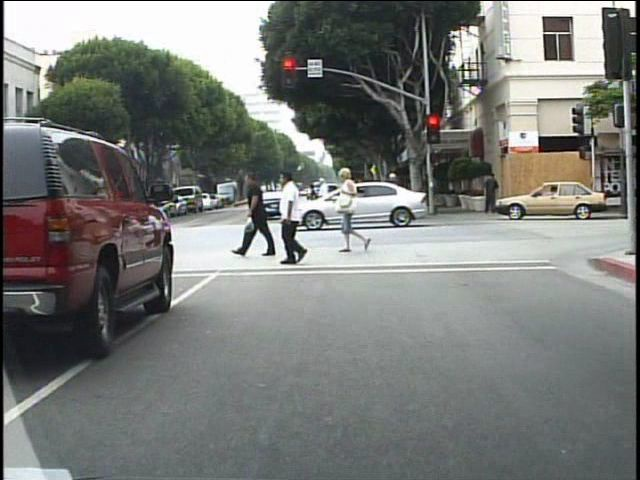person: (274, 172, 321, 270), (241, 169, 283, 263), (337, 165, 371, 256), (382, 165, 404, 226), (316, 175, 337, 223), (304, 180, 325, 225), (358, 177, 377, 223), (481, 170, 499, 217), (151, 180, 167, 232), (118, 182, 136, 228), (4, 193, 22, 238), (6, 198, 22, 236)
